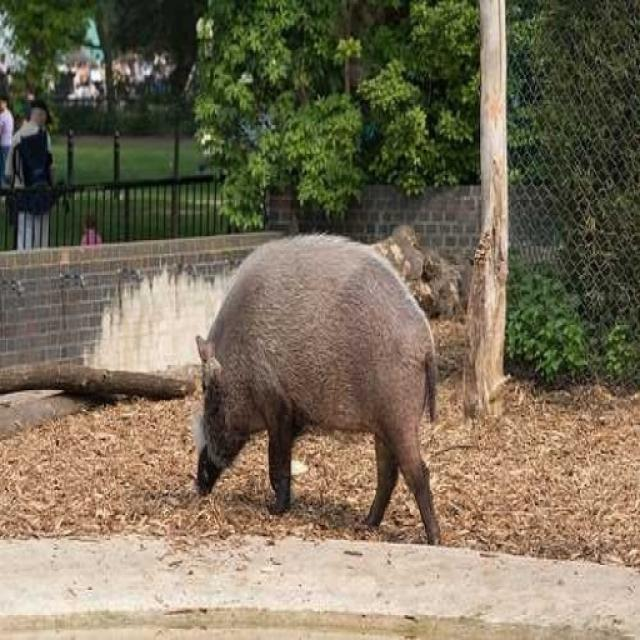pig: (146, 218, 500, 513)
